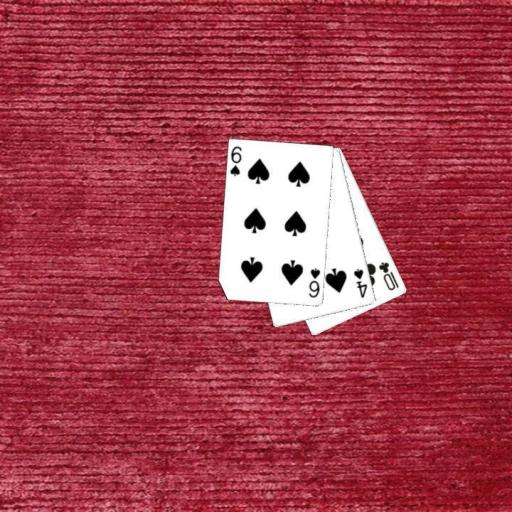card-corner: (376, 259, 400, 292), (351, 266, 369, 299), (306, 264, 322, 300), (228, 143, 243, 178)
